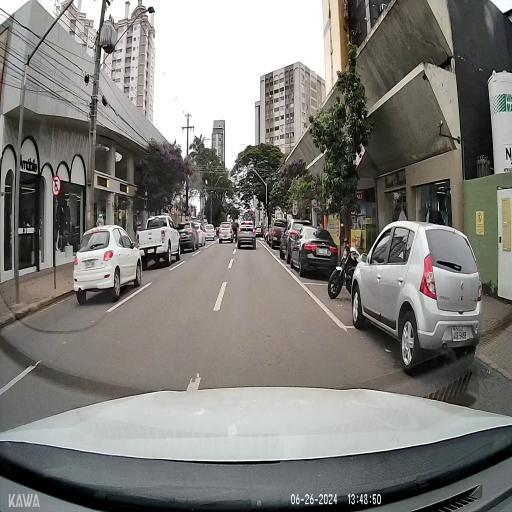R-6a: (52, 176, 60, 196)
